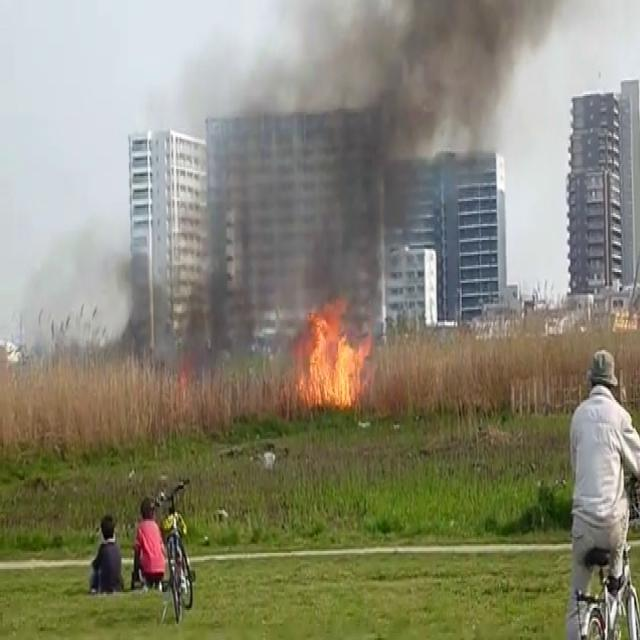Fire: (291, 297, 373, 418)
Smoke: (237, 0, 493, 320)
